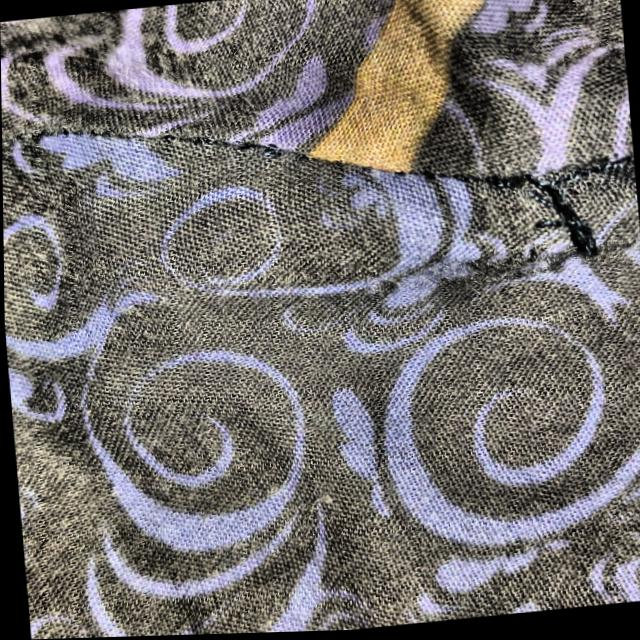Stitch: (488, 128, 612, 314)
